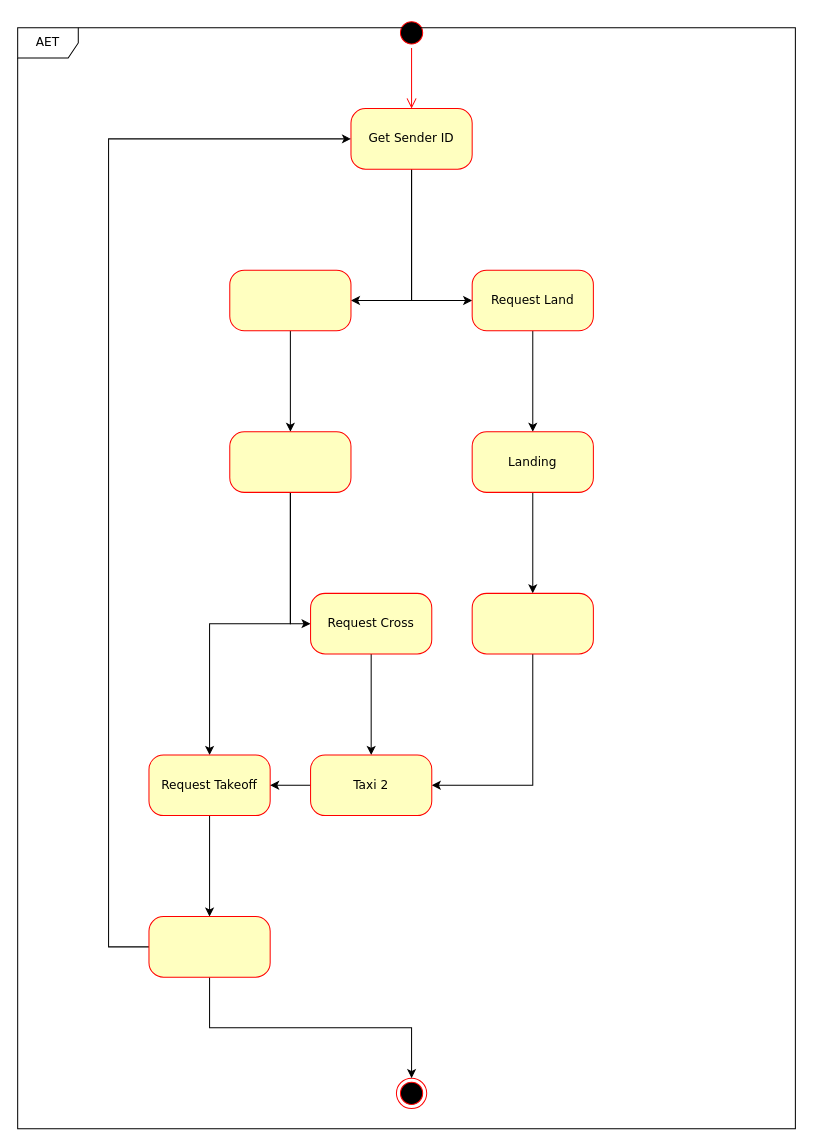
The diagram is 813 pixels wide and 1146 high, and some of its shapes have lost their labels. The shapes that lost their labels are listed below. From the top down, each one's centre as x and y in pixels, then its label:
pixel 290 300: Departure
pixel 290 461: Taxi
pixel 532 623: Request Taxi
pixel 209 946: Takeoff
